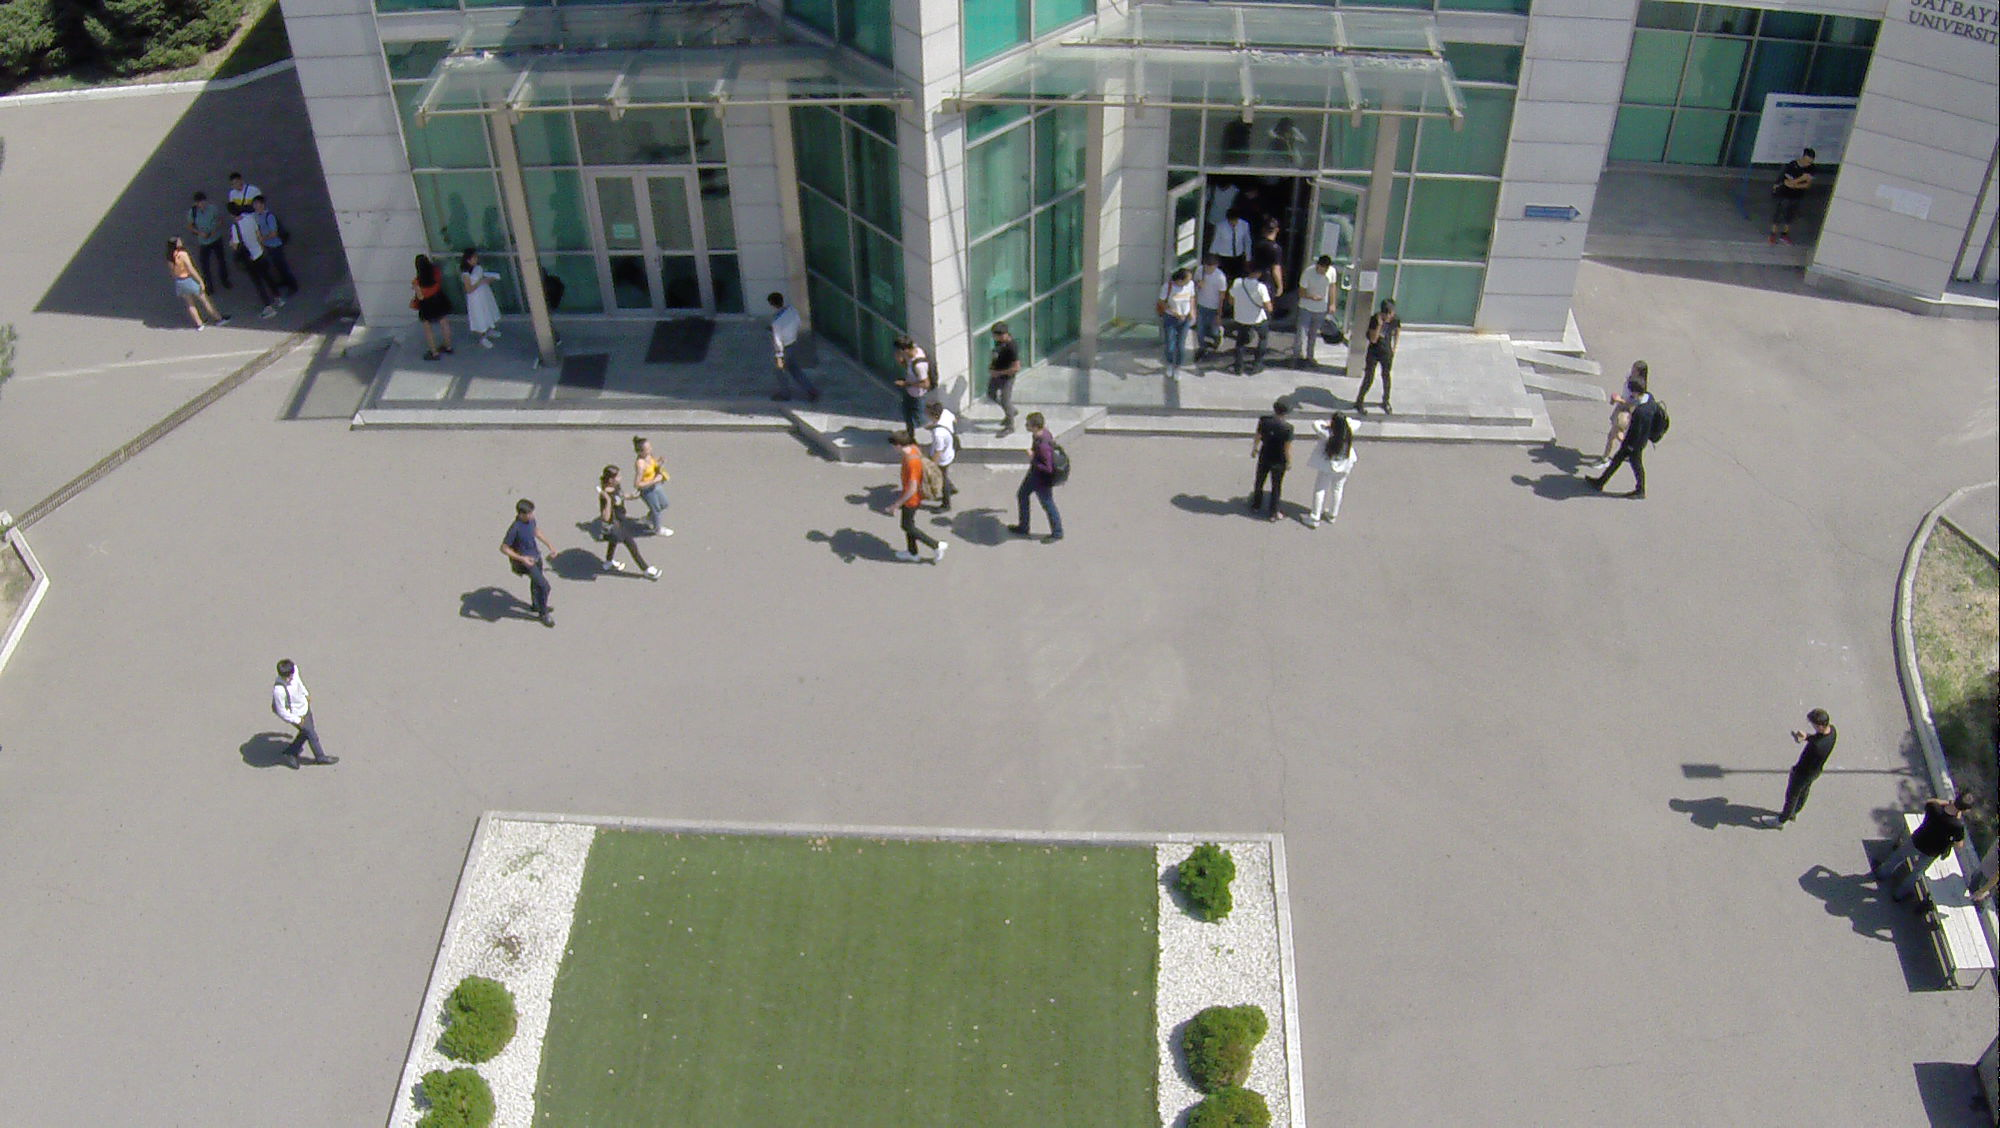person: (1869, 783, 1979, 904), (1762, 697, 1838, 838), (231, 188, 303, 319), (882, 431, 949, 572), (588, 465, 655, 590), (1009, 408, 1067, 551), (1596, 376, 1657, 504), (1305, 408, 1366, 531), (1246, 392, 1295, 525), (505, 497, 554, 632), (152, 234, 222, 326), (763, 288, 818, 401), (405, 253, 455, 366), (457, 247, 508, 354), (1153, 266, 1198, 384), (1356, 295, 1397, 418), (923, 397, 963, 522), (183, 189, 232, 290), (982, 315, 1020, 438), (635, 428, 677, 540), (1299, 251, 1338, 368), (889, 333, 936, 429), (1191, 254, 1230, 365), (1234, 262, 1266, 375)
